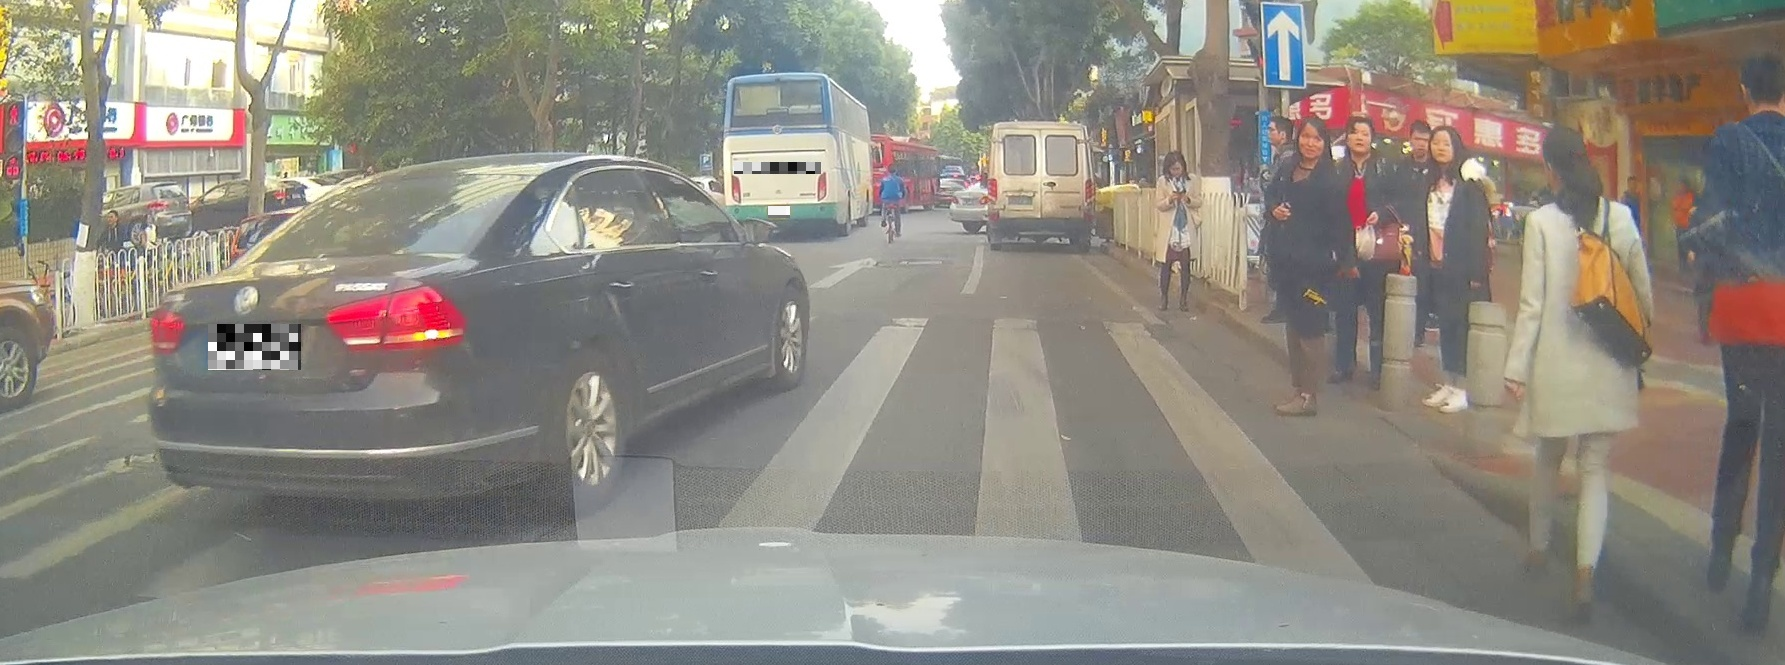L_light: (149, 304, 186, 356), (987, 178, 1000, 221), (731, 175, 741, 204)
R_light: (324, 284, 466, 352), (1084, 179, 1093, 224), (817, 172, 826, 202)
T_light: (402, 175, 449, 184), (766, 107, 788, 115), (1036, 217, 1046, 221)
day-no: (723, 73, 841, 237), (987, 121, 1094, 253)
day-right: (143, 161, 530, 522)
plate_1: (208, 325, 301, 370)
plate_2: (734, 162, 821, 174)
plate_3: (768, 206, 790, 217)
